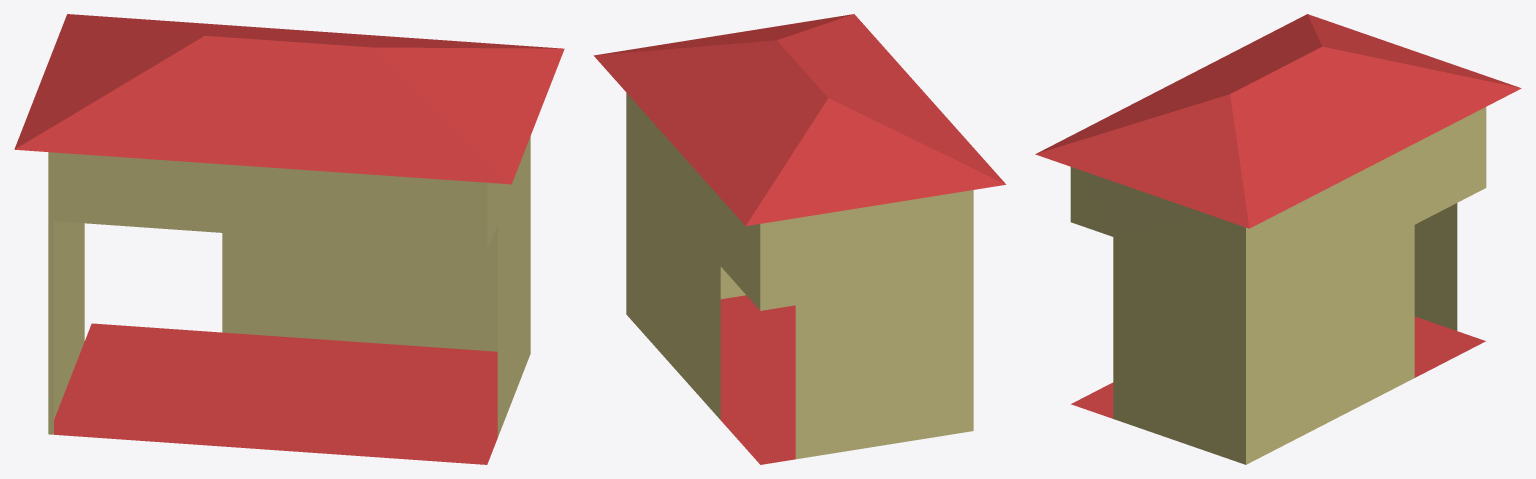
3 renders of one model, left to right at view 1: azimuth 30°, elevation 25°; view 2: azimuth 150°, elevation 25°; view 3: azimuth 270°, elevation 25°, orthographic. The views are drawn at different scales.
Parts seen in each view (by area): view 1: group_5, group_3, group_6, group_4; view 2: group_5, group_3, group_6, group_4; view 3: group_5, group_3, group_4, group_6.
Boxes of the visible parts, bbox=[...] form: group_5: bbox=[48, 136, 530, 437]; group_3: bbox=[14, 14, 530, 184]; group_6: bbox=[54, 323, 497, 464]; group_4: bbox=[15, 14, 564, 183]; group_5: bbox=[626, 93, 973, 459]; group_3: bbox=[626, 14, 1005, 225]; group_6: bbox=[720, 295, 795, 464]; group_4: bbox=[593, 14, 1005, 225]; group_5: bbox=[1070, 107, 1486, 464]; group_3: bbox=[1035, 14, 1519, 227]; group_4: bbox=[1035, 14, 1521, 228]; group_6: bbox=[1071, 316, 1485, 418].
Bounding box in the file's own units: 20.06 × 19.22 × 13.14.
